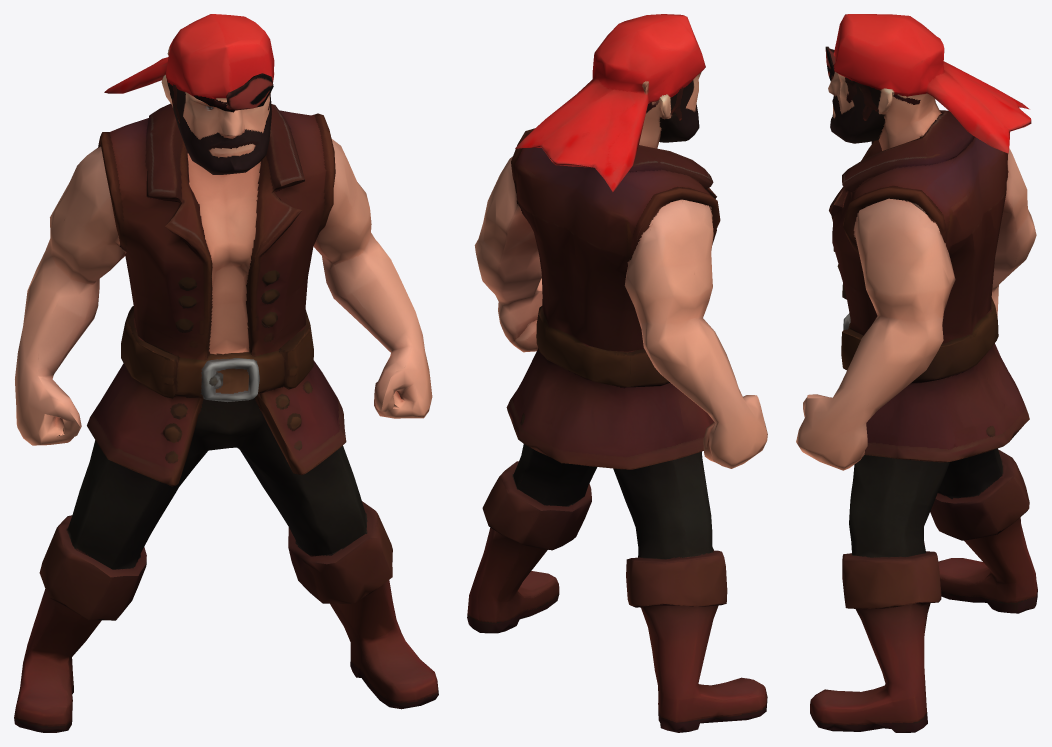
File: pirata.glb
3 renders of one model, left to right at view 1: azimuth 30°, elevation 25°; view 2: azimuth 150°, elevation 25°; view 3: azimuth 270°, elevation 25°, orthographic. The views are drawn at different scales.
Visible parts, largest first — view 1: world; view 2: world; view 3: world.
Part boxes in pixels (x1,y1,x2,y2): world: (14,14,438,732); world: (467,14,767,732); world: (796,14,1037,732).
Bounding box in the file's own units: 0.531 × 1 × 0.3472.
Materials: 1 (1 with a texture image).
